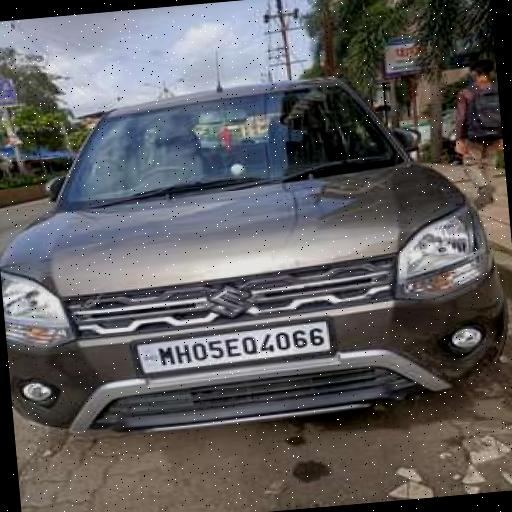license_plate`: (133, 320, 327, 373)
